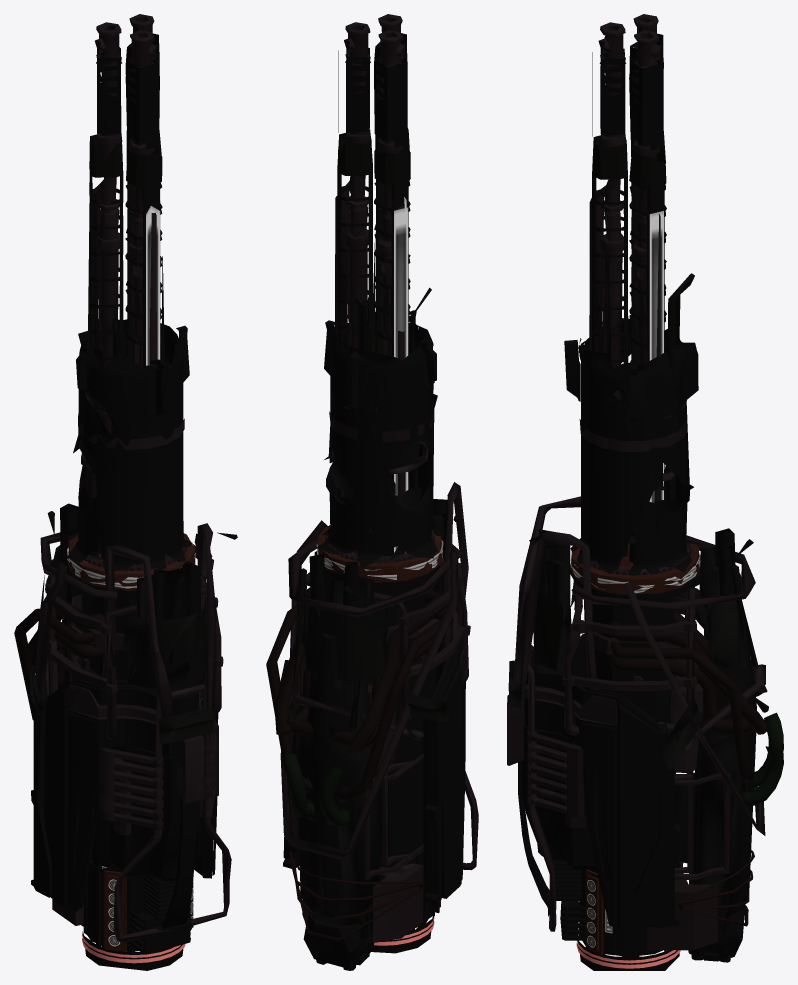
Rendered from breakneck-s4-gatling.glb.
3 renders of one model, left to right at view 1: azimuth 30°, elevation 25°; view 2: azimuth 150°, elevation 25°; view 3: azimuth 270°, elevation 25°, orthographic. The views are drawn at different scales.
Visible parts, largest first — view 1: bas_lvl1; view 2: bas_lvl1; view 3: bas_lvl1.
Part boxes in pixels (left/top/right/bottom): bas_lvl1: left=14, top=14, right=237, bottom=970; bas_lvl1: left=266, top=14, right=478, bottom=970; bas_lvl1: left=507, top=14, right=783, bottom=970.
Size of the model in its own units: 0.8262 by 4.38 by 1.18.
Materials: 11 (6 with a texture image).
